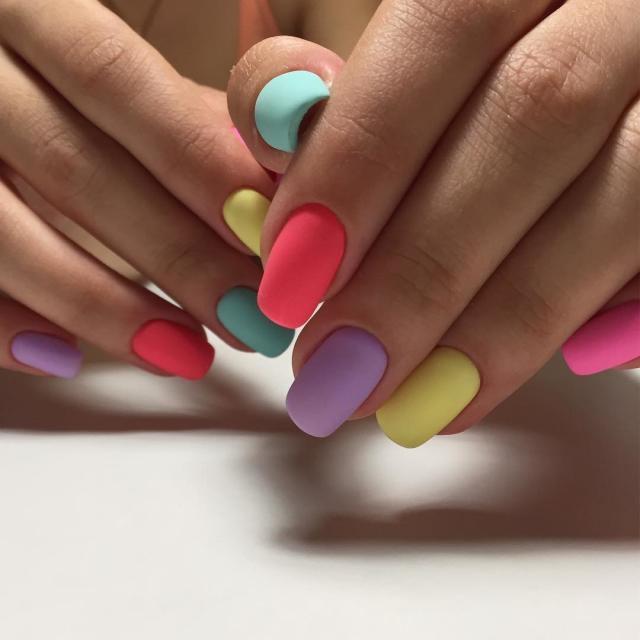Nail: (259, 204, 346, 329), (288, 328, 388, 436), (376, 348, 480, 448), (254, 70, 330, 152), (561, 301, 640, 375), (216, 286, 295, 358), (134, 320, 214, 380), (11, 330, 82, 378), (224, 189, 270, 255)
